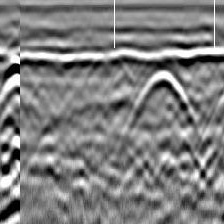Utility: (125, 67, 200, 130)
